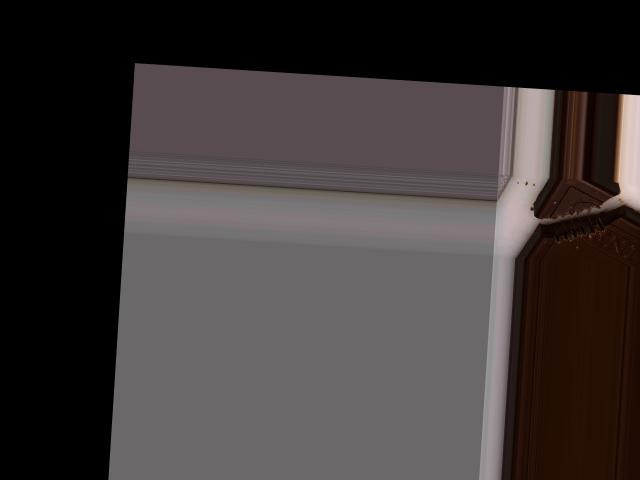chocolate: (514, 174, 640, 265)
